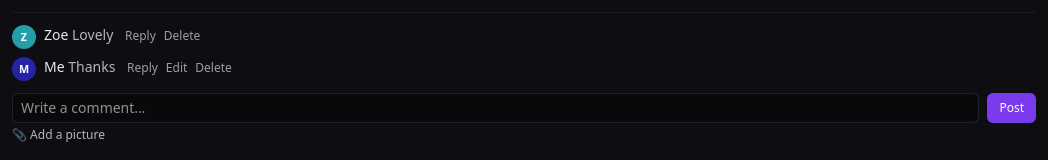
Test: CommentThread › lets the owner of the page delete anyone's comment, and counts it
The image size is (1048, 160).
Click the button with aria-label "Delete comment by Zoe". click: (182, 36)
box: [164,28,200,44]
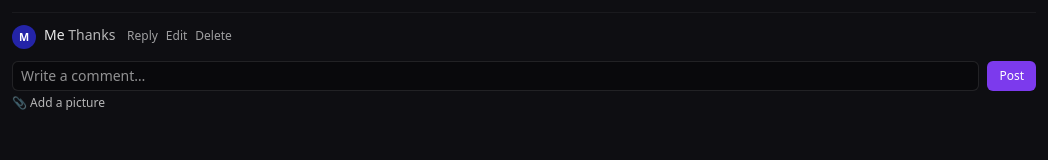
Now the text "Lovely" is gone
